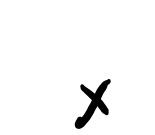mult: (77, 78, 111, 127)
